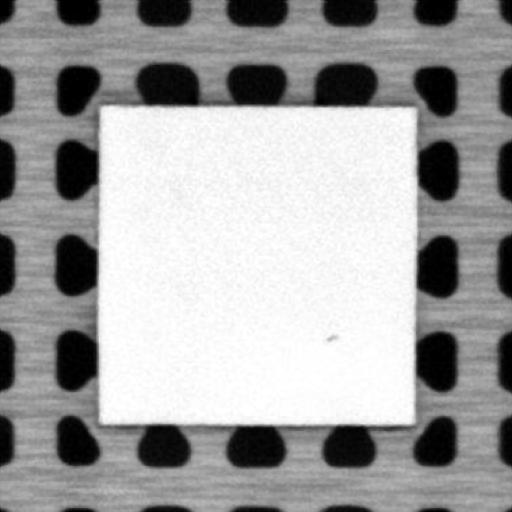DIE_INK: (322, 330, 339, 342)
